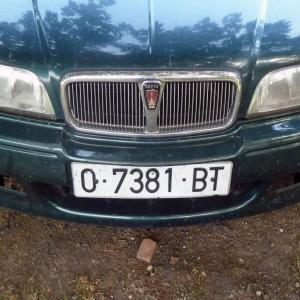Vehicle-registration-plate: (72, 161, 234, 199)
